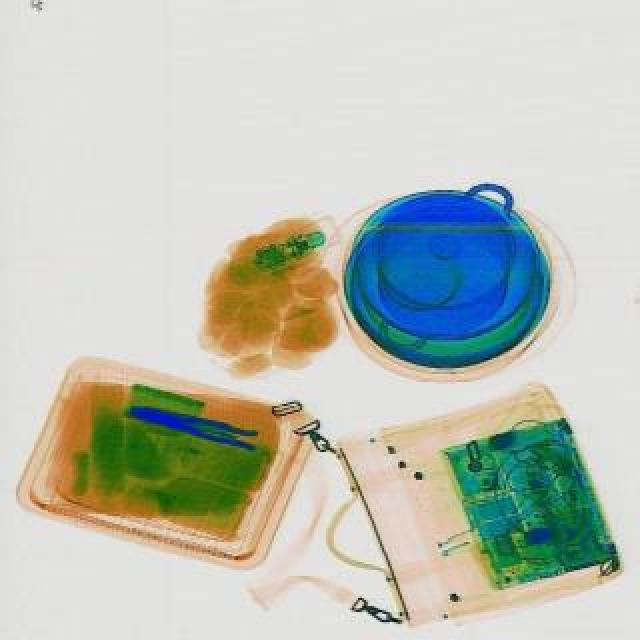wrench: (126, 394, 262, 454)
